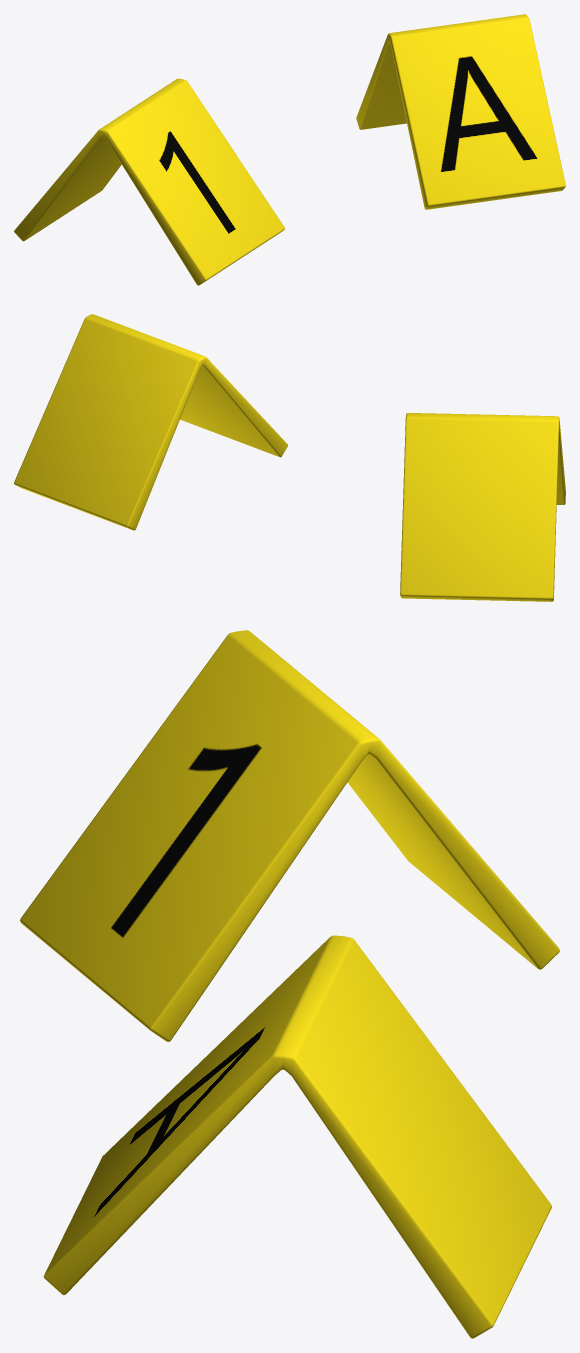
File: evidencemarkers.fbx
3 views of the same model, one above another, from view 1: azimuth 30°, elevation 25°; view 2: azimuth 150°, elevation 25°; view 3: azimuth 270°, elevation 25° (orthographic). The views are drawn at different scales.
Parts seen in each view (by area): view 1: Marker.002, Marker.001; view 2: Marker.001, Marker.002; view 3: Marker.001, Marker.002.
Part boxes in pixels (x1,y1,x2,y2): Marker.002: [356, 14, 565, 209]; Marker.001: [14, 78, 284, 285]; Marker.001: [400, 413, 565, 601]; Marker.002: [14, 314, 287, 530]; Marker.001: [20, 630, 559, 1041]; Marker.002: [43, 935, 551, 1338].
Size of the model in its own units: 113 by 29.27 by 53.48.
